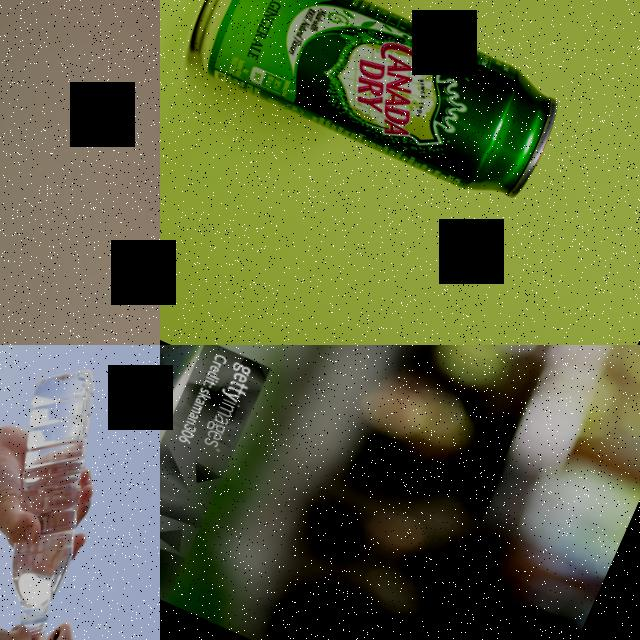bottle: (0, 355, 151, 640)
can: (168, 0, 575, 219)
